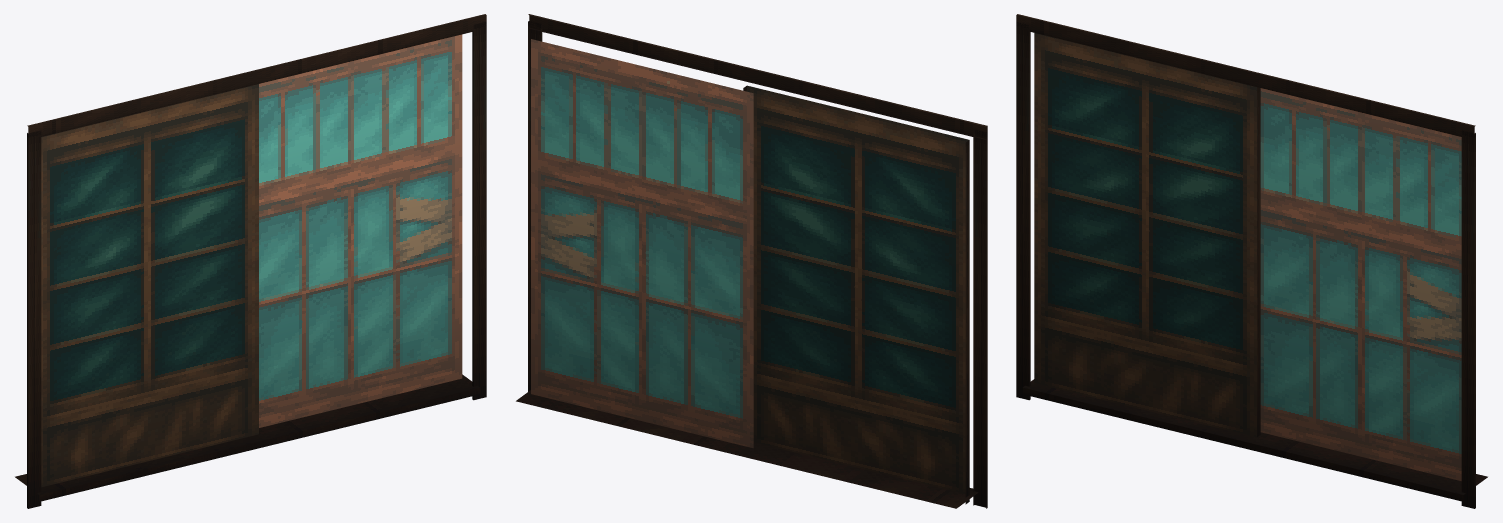
The model's file is prop_sash-20-16-3.glb.
The picture shows the model from 3 angles, left to right: view 1: azimuth 30°, elevation 25°; view 2: azimuth 150°, elevation 25°; view 3: azimuth 330°, elevation 25°; orthographic projection.
Parts seen in each view (by area): view 1: prop_sash-20-16-3; view 2: prop_sash-20-16-3; view 3: prop_sash-20-16-3.
Part boxes in pixels (x1,y1,x2,y2): prop_sash-20-16-3: (15,14,486,508); prop_sash-20-16-3: (516,14,987,508); prop_sash-20-16-3: (1016,14,1487,508).
Bounding box in the file's own units: 2.12 × 1.69 × 0.2.
Materials: 3 (3 with a texture image).
